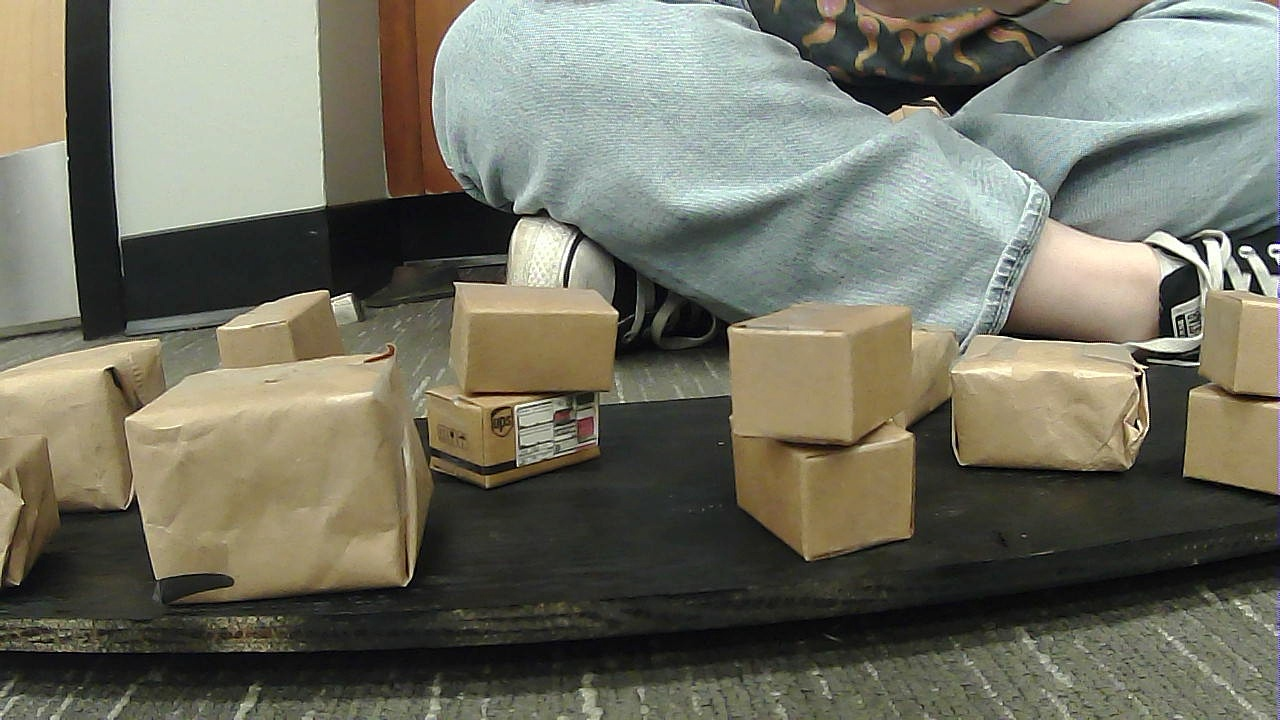package: (104, 348, 473, 610), (690, 396, 936, 553), (701, 283, 934, 435), (2, 318, 161, 506), (413, 361, 649, 487), (461, 259, 658, 407), (946, 332, 1136, 468), (224, 293, 363, 386), (1170, 390, 1272, 490), (2, 430, 66, 586), (1192, 287, 1272, 403)
stacked: (713, 305, 945, 562), (420, 261, 631, 484), (1172, 283, 1276, 502)
